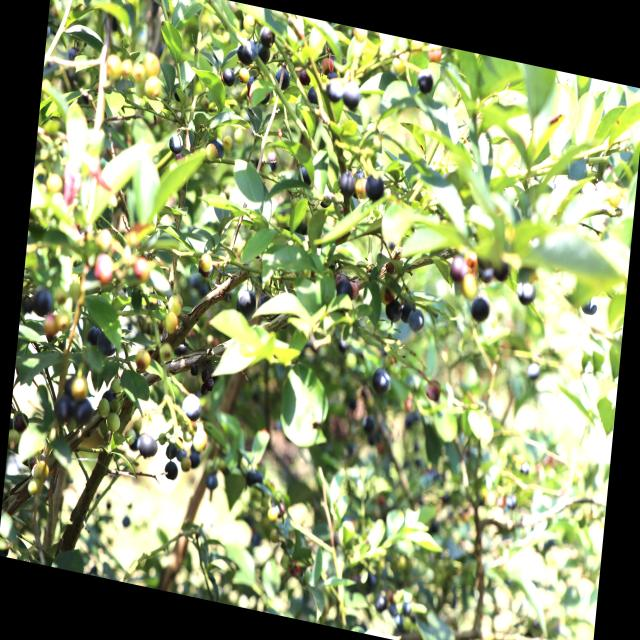blueberry: (363, 169, 386, 205), (31, 286, 56, 319), (179, 388, 203, 422), (469, 292, 492, 326), (514, 278, 538, 310), (342, 78, 364, 112), (136, 431, 160, 462), (95, 328, 119, 358), (235, 36, 258, 66), (72, 396, 93, 428), (236, 287, 257, 319), (335, 277, 356, 308), (337, 167, 357, 199), (371, 365, 393, 394), (324, 76, 346, 104), (54, 395, 74, 424), (383, 295, 403, 324), (272, 62, 292, 90), (416, 68, 436, 96), (407, 305, 426, 334), (167, 130, 186, 157), (258, 24, 279, 48), (256, 40, 274, 66), (400, 296, 416, 325), (208, 136, 226, 161), (297, 160, 314, 186), (86, 320, 100, 348), (221, 63, 237, 87), (163, 459, 179, 482), (308, 82, 324, 105), (203, 472, 220, 493), (164, 441, 179, 462), (298, 65, 312, 87), (258, 293, 271, 313), (176, 445, 188, 464), (188, 360, 200, 379), (189, 454, 200, 470), (200, 367, 210, 383), (200, 381, 210, 396), (207, 378, 216, 390)
blueberry-halfripe: (132, 255, 150, 282)
blueberry-unripe: (103, 51, 124, 84), (143, 70, 163, 104), (141, 50, 163, 80), (191, 426, 209, 453), (26, 476, 45, 499), (134, 348, 152, 372), (119, 55, 135, 81), (257, 158, 275, 181), (166, 292, 183, 316), (105, 410, 122, 433), (163, 311, 180, 334), (203, 141, 220, 164), (32, 460, 49, 482), (96, 396, 112, 419), (132, 62, 148, 84), (110, 374, 125, 396), (198, 251, 212, 274), (233, 125, 248, 146), (159, 341, 173, 360), (222, 131, 234, 153), (237, 64, 250, 84), (109, 397, 123, 415), (123, 426, 136, 444)
